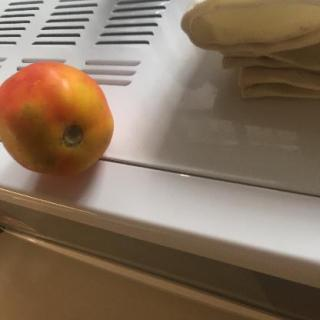Tomat: (1, 53, 120, 179)
